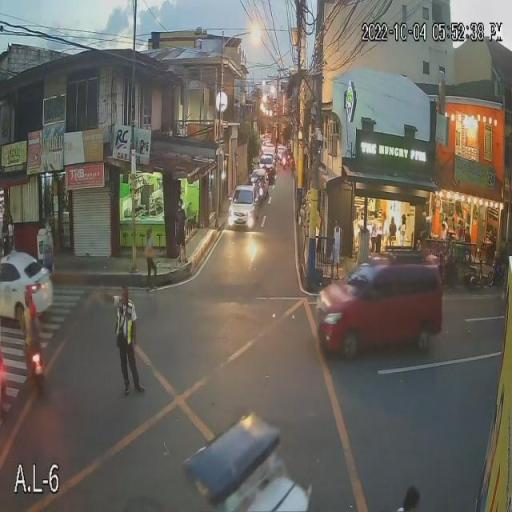helmet: (23, 282, 32, 308), (29, 302, 38, 319)
motorcycle: (20, 332, 48, 402)
rider: (28, 298, 44, 351), (20, 287, 33, 349)
